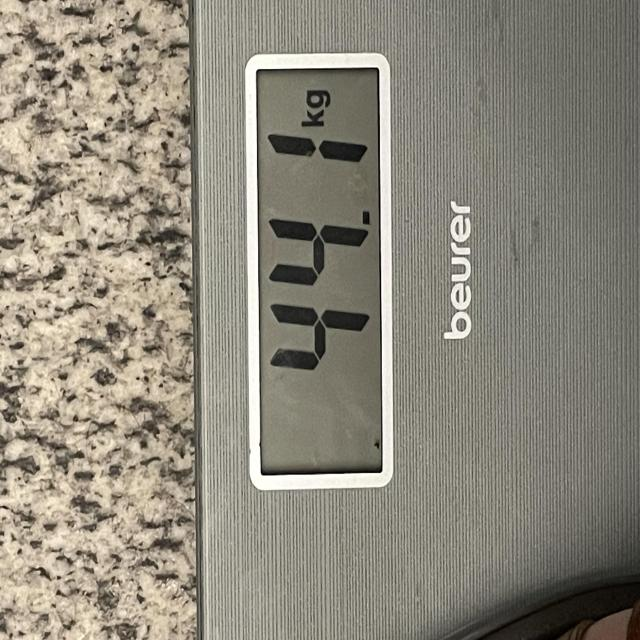ws: (187, 0, 640, 640)
